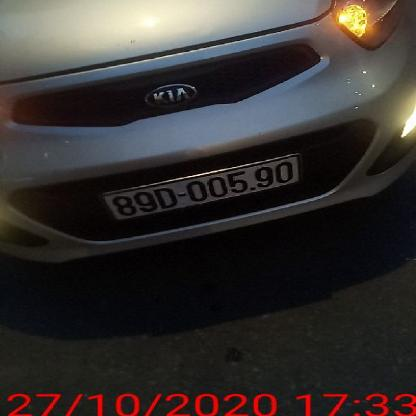biensoxe: (98, 154, 303, 223)
